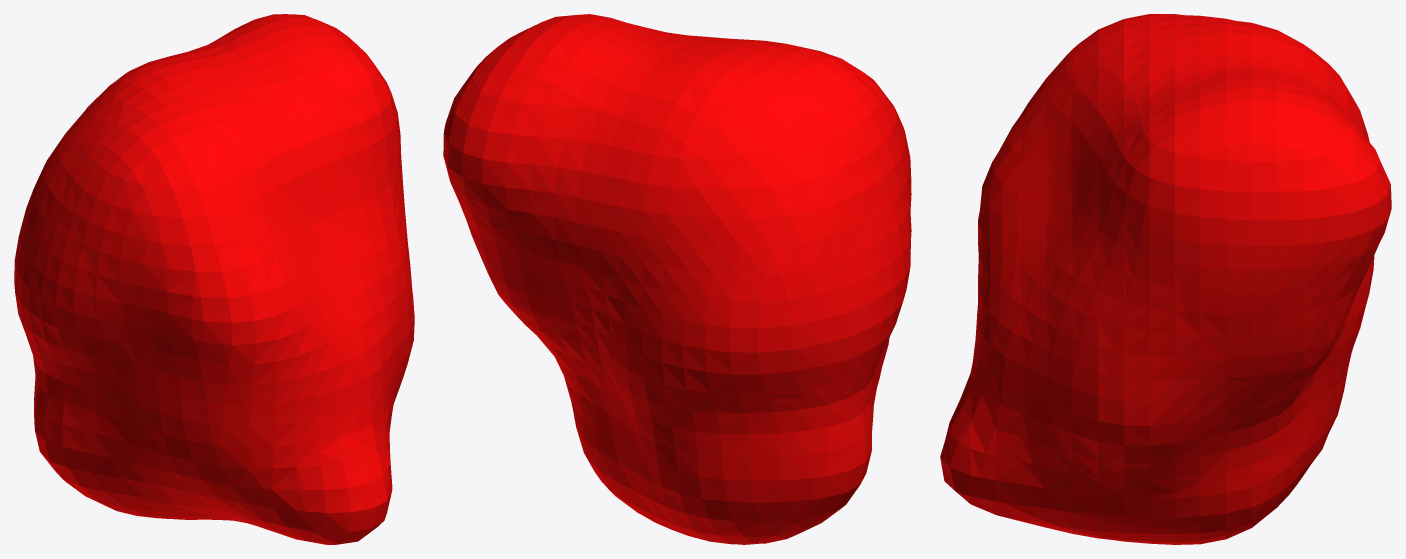
Rendered from rpmJ_coarse.dae.
3 views of the same model, side by side, from view 1: azimuth 30°, elevation 25°; view 2: azimuth 150°, elevation 25°; view 3: azimuth 270°, elevation 25° (orthographic). The views are drawn at different scales.
Parts seen in each view (by area): view 1: rpmJ; view 2: rpmJ; view 3: rpmJ.
Boxes of the visible parts, x1,y1,x2,y2 form: rpmJ: [14, 14, 414, 544]; rpmJ: [443, 14, 911, 544]; rpmJ: [940, 14, 1391, 544].
Size of the model in its own units: 23.98 by 28.13 by 23.54.
